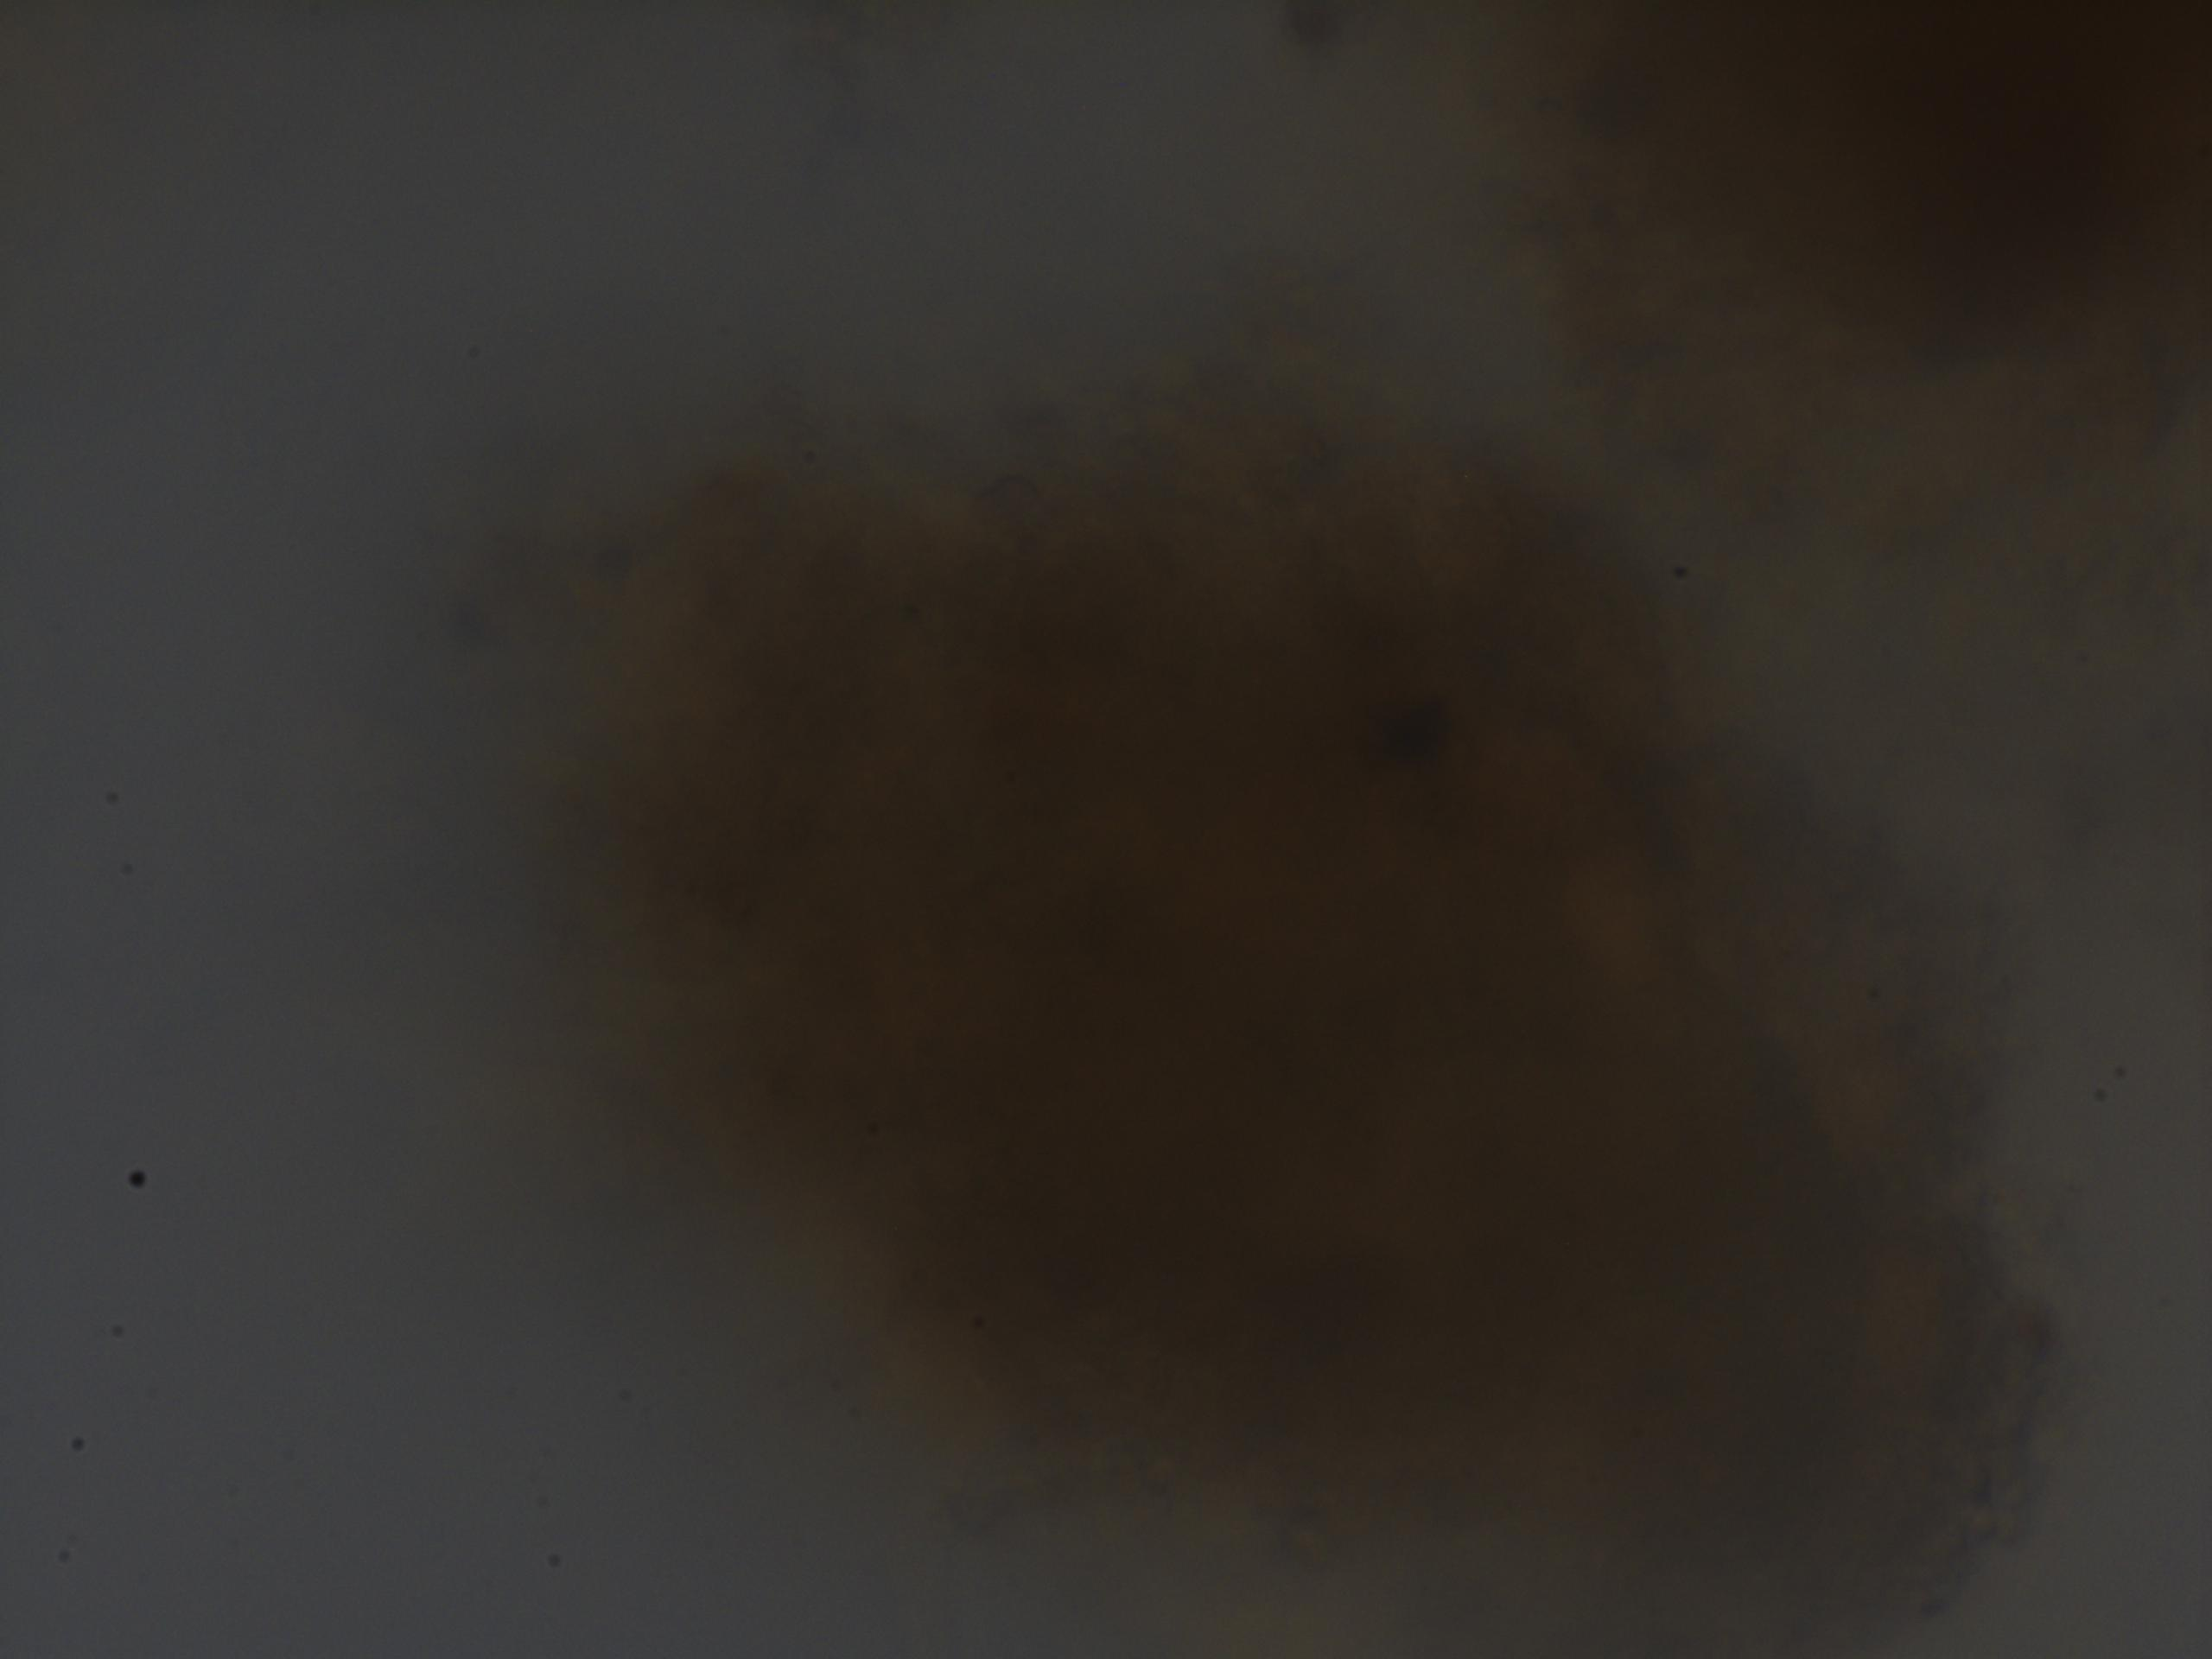spherical_floc: (547, 385, 2073, 1659)
